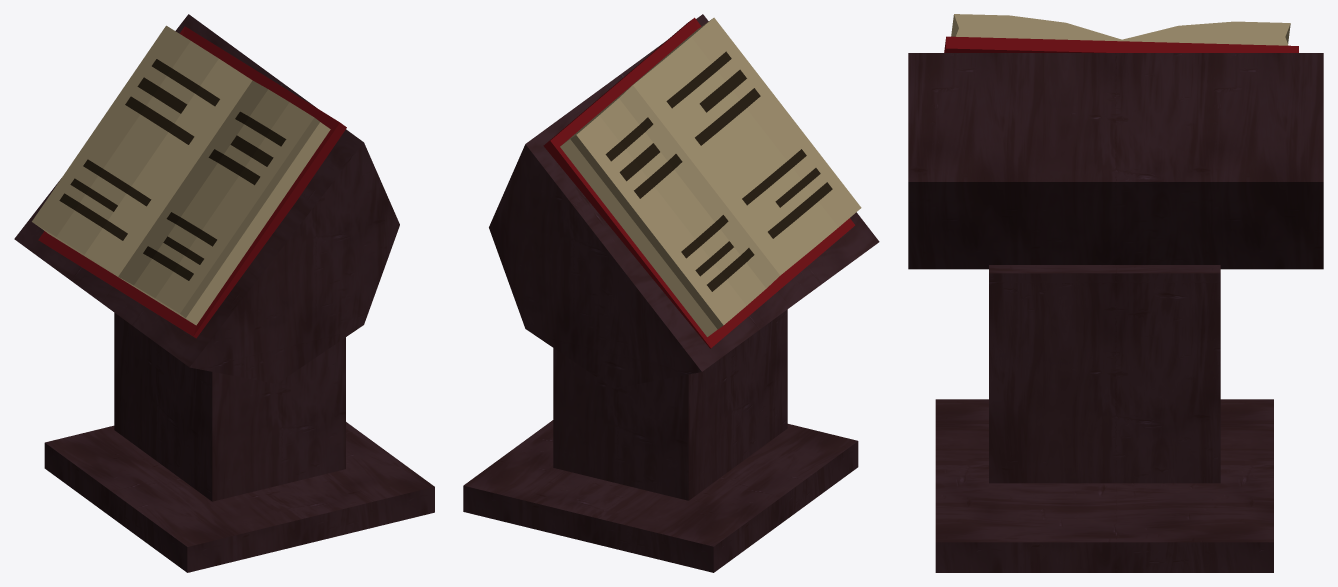
File: lectern.glb
3 views of the same model, side by side, from view 1: azimuth 30°, elevation 25°; view 2: azimuth 150°, elevation 25°; view 3: azimuth 270°, elevation 25° (orthographic). The views are drawn at different scales.
Visible parts, largest first — view 1: mergedBlocks(Clone); view 2: mergedBlocks(Clone); view 3: mergedBlocks(Clone).
Boxes of the visible parts, left/top/right/bottom form: mergedBlocks(Clone): left=14, top=14, right=434, bottom=572; mergedBlocks(Clone): left=463, top=14, right=879, bottom=572; mergedBlocks(Clone): left=908, top=14, right=1323, bottom=572.
Size of the model in its own units: 0.6261 by 0.9642 by 0.7353.
Materials: 4 (1 with a texture image).
